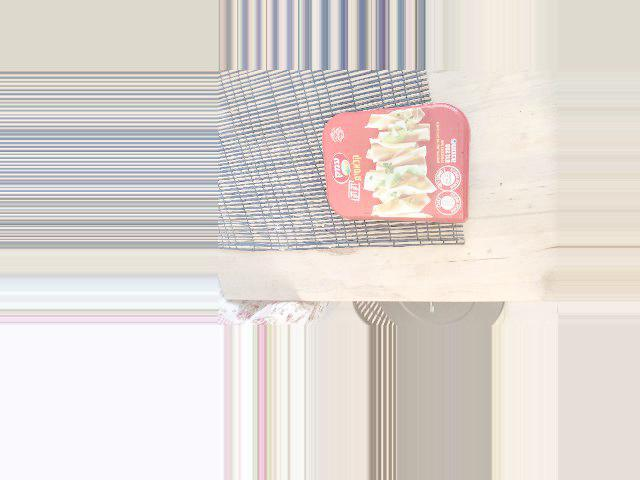cheese: (315, 109, 480, 217)
